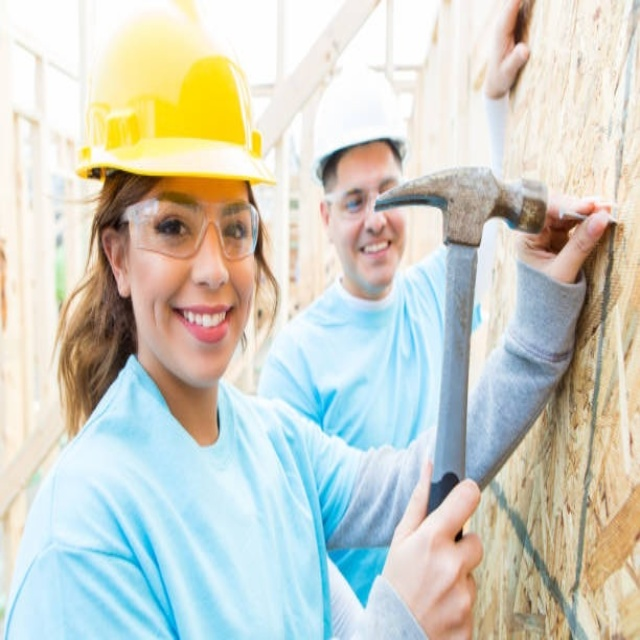Gafas: (120, 198, 263, 260), (324, 182, 403, 219)
Sin_guantes: (375, 454, 485, 640), (520, 187, 619, 280), (484, 0, 534, 101)
Sin_mascara: (163, 293, 242, 356), (352, 231, 401, 273)
